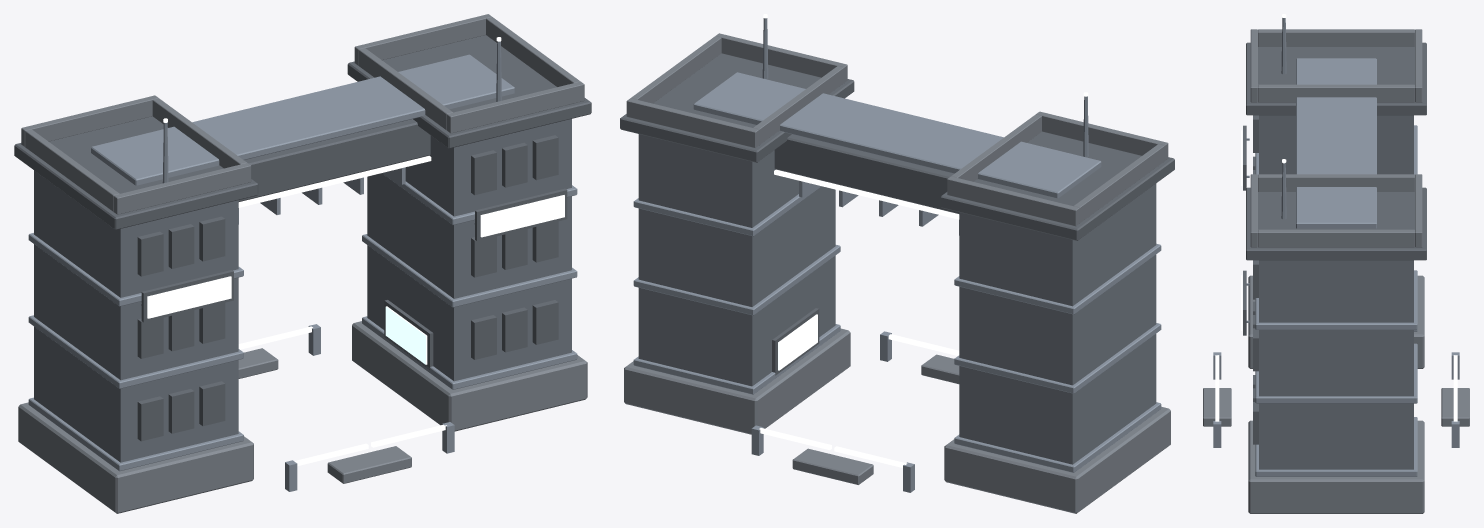
The model's file is policy_gate.glb.
3 views of the same model, side by side, from view 1: azimuth 30°, elevation 25°; view 2: azimuth 150°, elevation 25°; view 3: azimuth 270°, elevation 25° (orthographic). The views are drawn at different scales.
Parts seen in each view (by area): view 1: policy_gate_Graphite@civic, policy_gate_DarkAlloy@civic, policy_gate_Concrete@civic, policy_gate_Steel@civic, policy_gate_White, policy_gate_CoolGlass; view 2: policy_gate_Graphite@civic, policy_gate_Concrete@civic, policy_gate_Steel@civic, policy_gate_DarkAlloy@civic, policy_gate_White, policy_gate_CoolGlass; view 3: policy_gate_Graphite@civic, policy_gate_Concrete@civic, policy_gate_Steel@civic, policy_gate_DarkAlloy@civic, policy_gate_White.
Part boxes in pixels (x1=…): policy_gate_Graphite@civic: x1=34, y1=119, x2=571, y2=462; policy_gate_DarkAlloy@civic: x1=14, y1=35, x2=591, y2=441; policy_gate_Concrete@civic: x1=18, y1=14, x2=587, y2=513; policy_gate_Steel@civic: x1=28, y1=41, x2=577, y2=491; policy_gate_White: x1=147, y1=37, x2=564, y2=466; policy_gate_CoolGlass: x1=385, y1=306, x2=427, y2=364; policy_gate_Graphite@civic: x1=638, y1=134, x2=1156, y2=464; policy_gate_Concrete@civic: x1=624, y1=33, x2=1170, y2=513; policy_gate_Steel@civic: x1=633, y1=18, x2=1161, y2=492; policy_gate_DarkAlloy@civic: x1=620, y1=53, x2=1174, y2=375; policy_gate_White: x1=759, y1=14, x2=1088, y2=467; policy_gate_CoolGlass: x1=778, y1=314, x2=817, y2=370; policy_gate_Graphite@civic: x1=1259, y1=115, x2=1413, y2=469; policy_gate_Concrete@civic: x1=1203, y1=29, x2=1469, y2=513; policy_gate_Steel@civic: x1=1213, y1=18, x2=1459, y2=476; policy_gate_DarkAlloy@civic: x1=1243, y1=42, x2=1426, y2=444; policy_gate_White: x1=1215, y1=14, x2=1457, y2=421.
Bounding box in the file's own units: 20.6 × 15.04 × 11.2.
